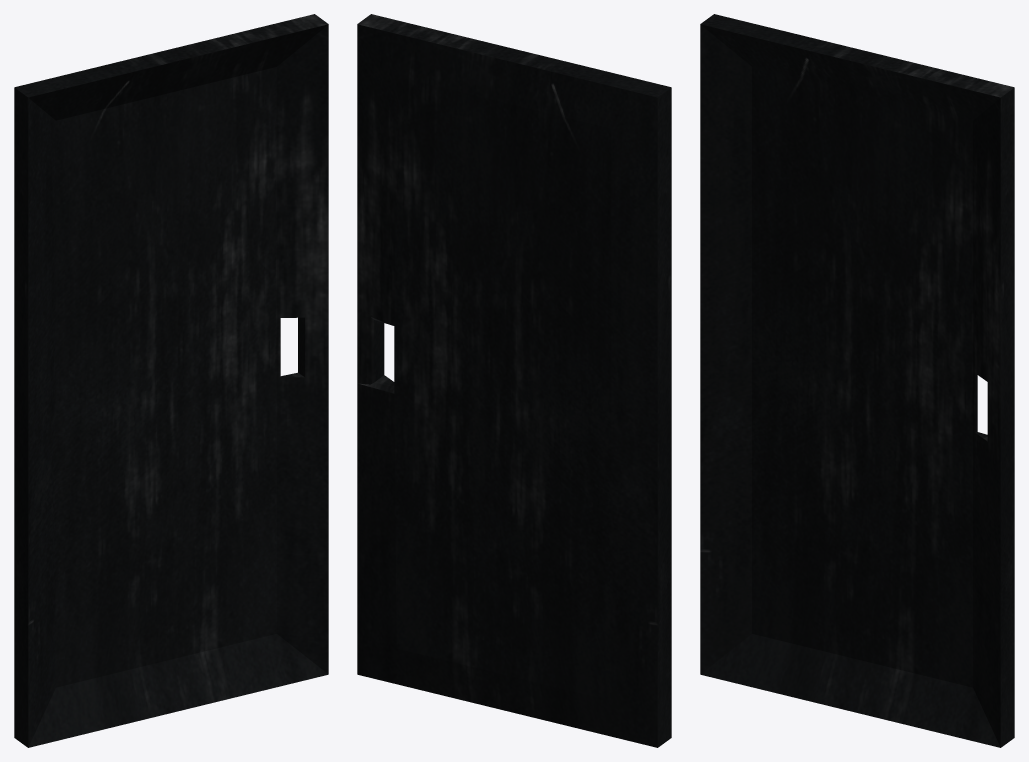
The model's file is module4.fbx.
The picture shows the model from 3 angles, left to right: view 1: azimuth 30°, elevation 25°; view 2: azimuth 150°, elevation 25°; view 3: azimuth 330°, elevation 25°; orthographic projection.
Visible parts, largest first — view 1: module.004; view 2: module.004; view 3: module.004.
Part boxes in pixels (left/top/right/bottom): module.004: left=14, top=14, right=328, bottom=747; module.004: left=357, top=14, right=671, bottom=747; module.004: left=700, top=14, right=1014, bottom=747.
Size of the model in its own units: 29.32 by 60.61 by 2.95.
